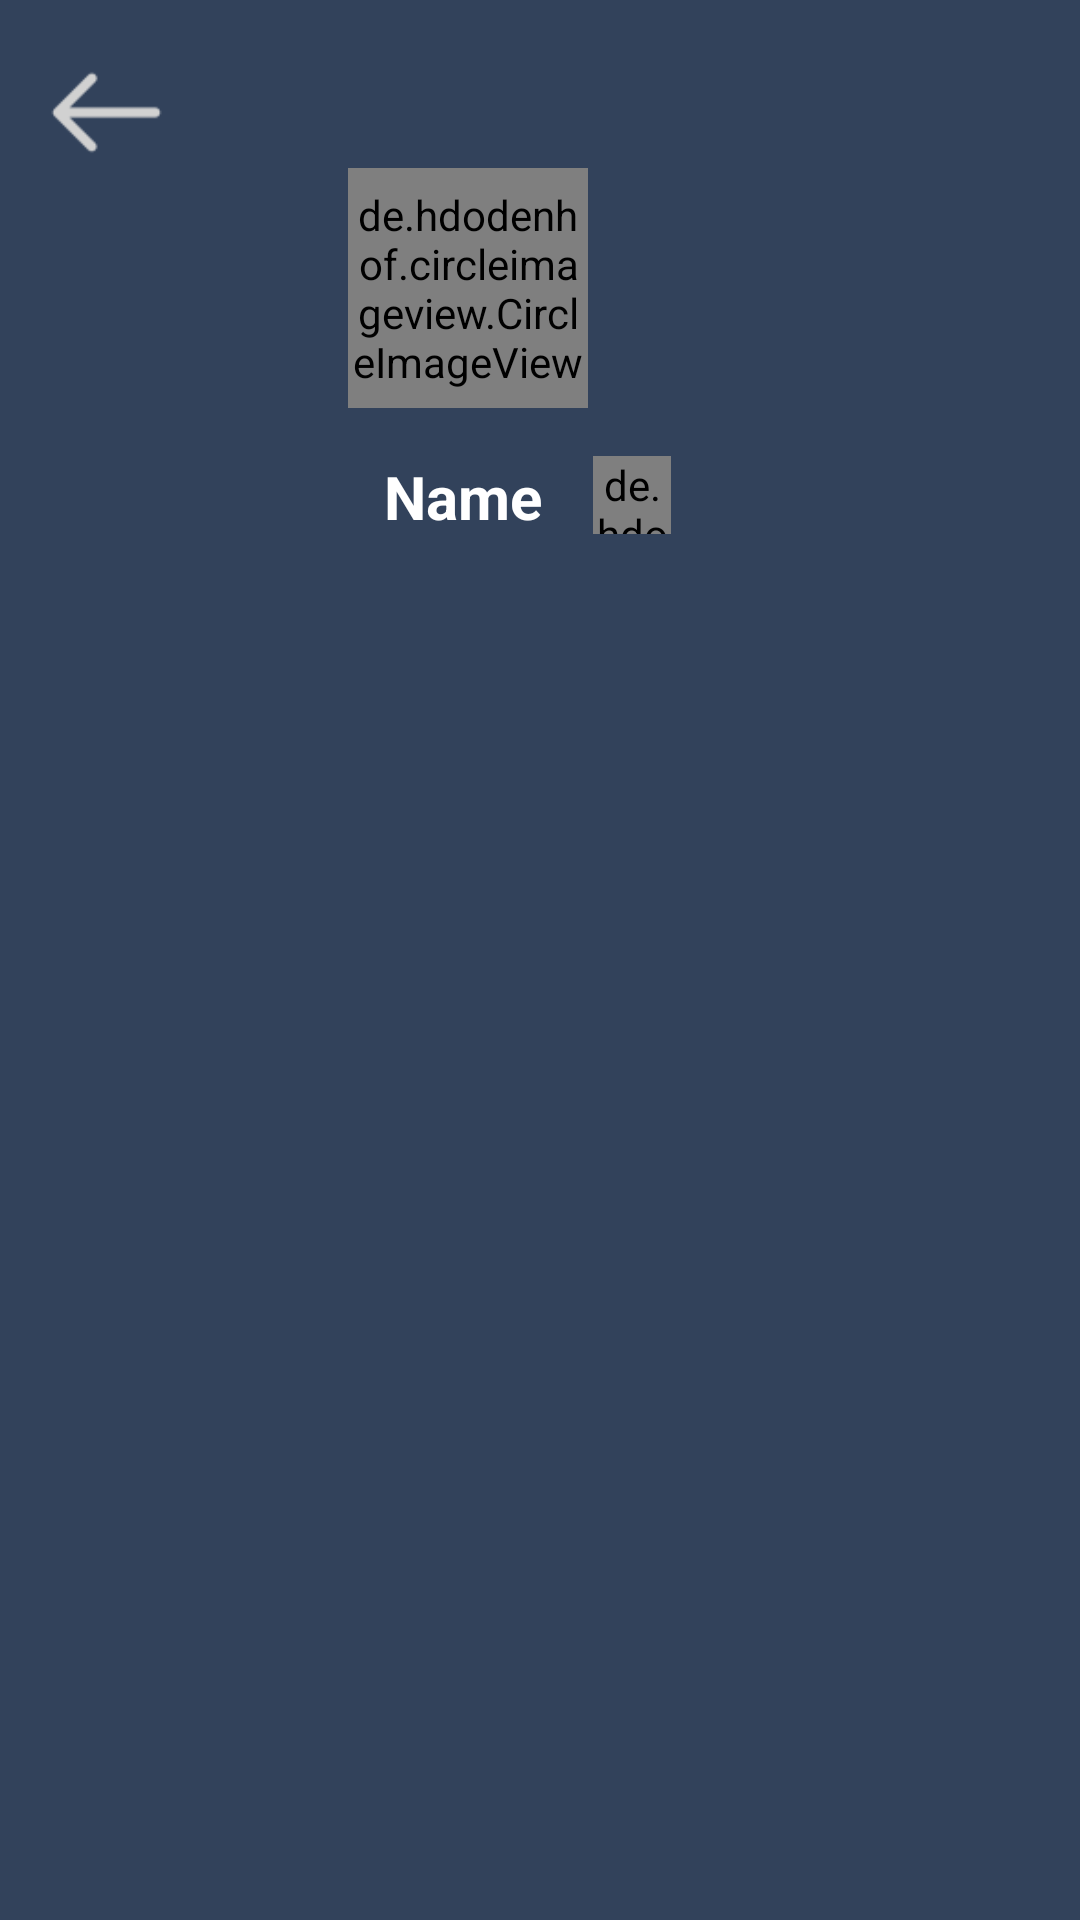

Icons on this 1080 x 1920 Android screen, each with its box as (x1, y1, x2, y2):
back: (52, 72, 161, 152)
